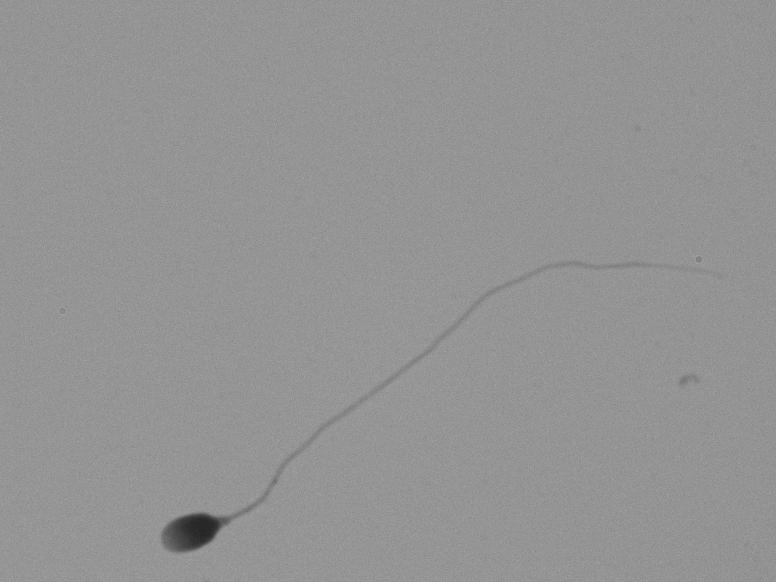Normal: (122, 174, 706, 574)
